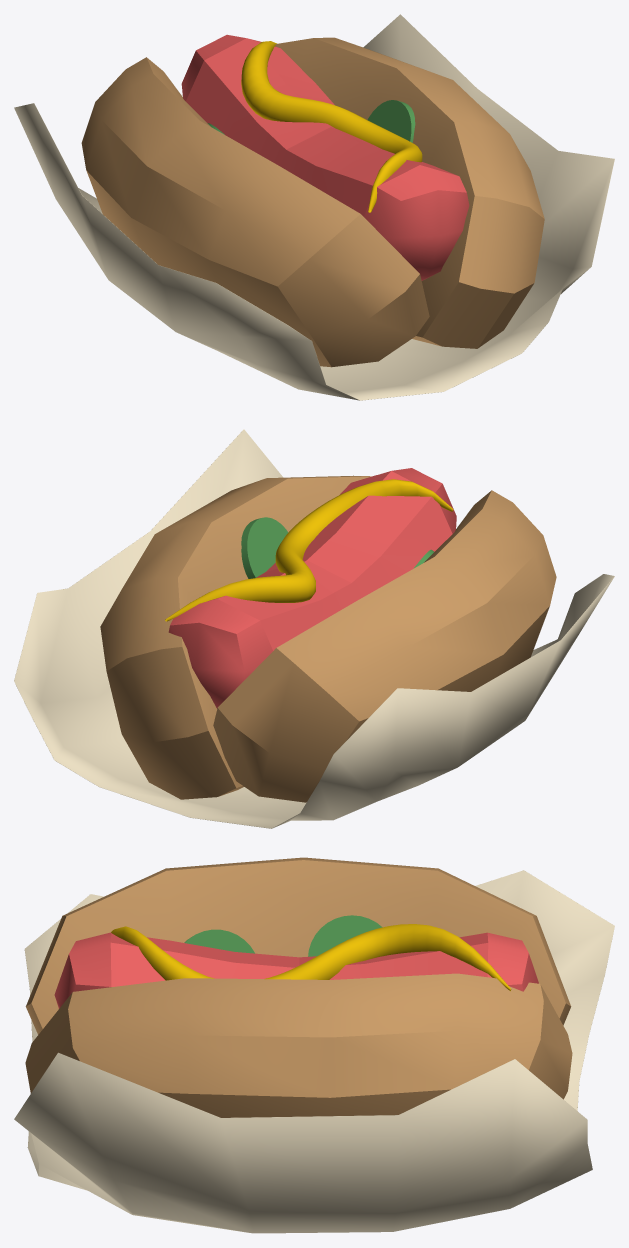
Rendered from hot dog.fbx.
The picture shows the model from 3 angles, top to bottom: view 1: azimuth 30°, elevation 25°; view 2: azimuth 150°, elevation 25°; view 3: azimuth 270°, elevation 25°; orthographic projection. The views are drawn at different scales.
Parts seen in each view (by area): view 1: Cube.057, Plane.006, Cube.058, Cube.059, NurbsPath, Cylinder.004; view 2: Cube.057, Plane.006, Cube.058, Cube.059, NurbsPath, Cylinder.004; view 3: Plane.006, Cube.058, Cube.057, Cube.059, NurbsPath, Cylinder.005, Cylinder.006.
Part boxes in pixels (x1,y1,x2,y2): Cube.057: (81,57,429,367); Plane.006: (14,14,614,400); Cube.058: (275,37,544,348); Cube.059: (181,34,469,280); NurbsPath: (241,41,422,212); Cylinder.004: (367,100,415,142); Cube.057: (213,490,556,802); Plane.006: (14,429,614,828); Cube.058: (100,475,371,799); Cube.059: (168,468,456,708); NurbsPath: (165,479,453,621); Cylinder.004: (241,517,288,578); Plane.006: (14,870,614,1233); Cube.058: (25,973,572,1117); Cube.057: (25,857,571,1034); Cube.059: (54,932,538,1008); NurbsPath: (111,924,511,991); Cylinder.005: (308,915,382,956); Cylinder.006: (184,929,254,953).
Size of the model in its own units: 81.89 by 48.28 by 96.81.
